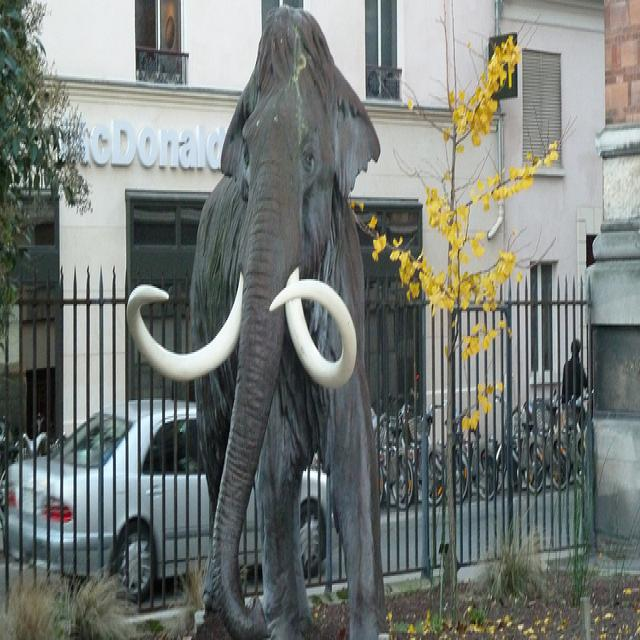motor: (389, 404, 413, 508)
